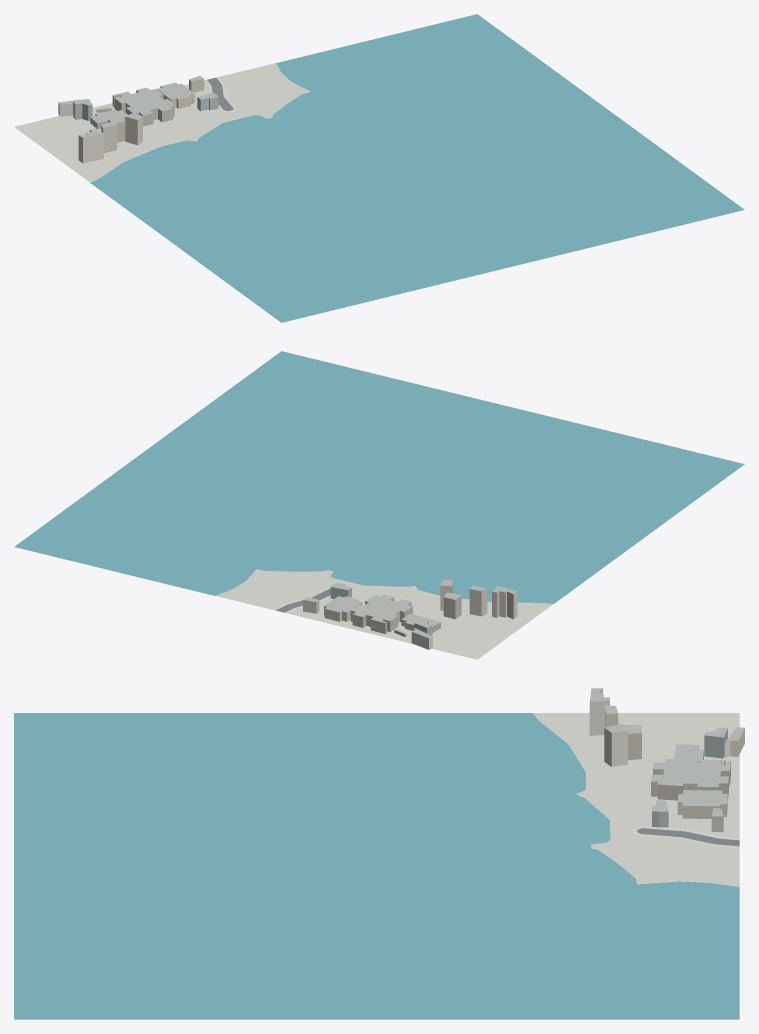
3 views of the same model, one above another, from view 1: azimuth 30°, elevation 25°; view 2: azimuth 150°, elevation 25°; view 3: azimuth 270°, elevation 25° (orthographic). The views are drawn at different scales.
Parts seen in each view (by area): view 1: city; view 2: city; view 3: city.
Boxes of the visible parts, box(x1,y1,x2,y2) form: city: box(14, 14, 744, 322); city: box(14, 351, 744, 659); city: box(14, 688, 744, 1019).
Size of the model in its own units: 500 by 26.18 by 504.
